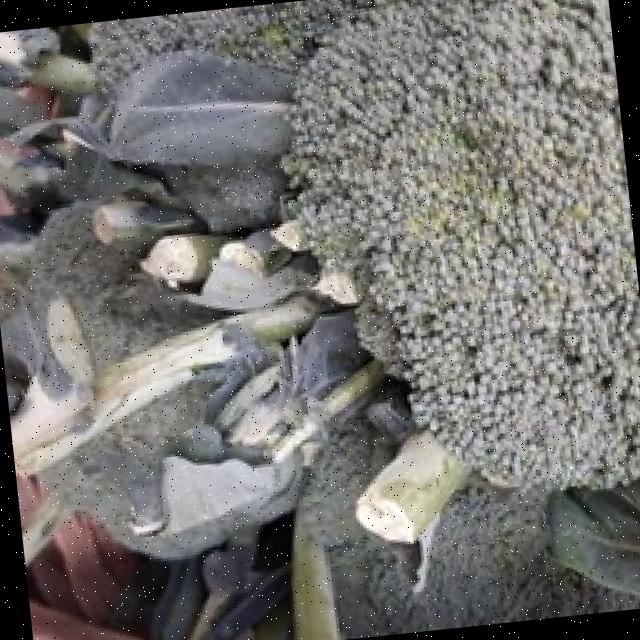Broccoli: (284, 0, 640, 487), (286, 0, 640, 487), (303, 415, 640, 639), (304, 416, 640, 639), (0, 204, 220, 409), (0, 203, 223, 380), (41, 367, 226, 557), (42, 384, 211, 557), (92, 0, 373, 88), (92, 0, 376, 86)
